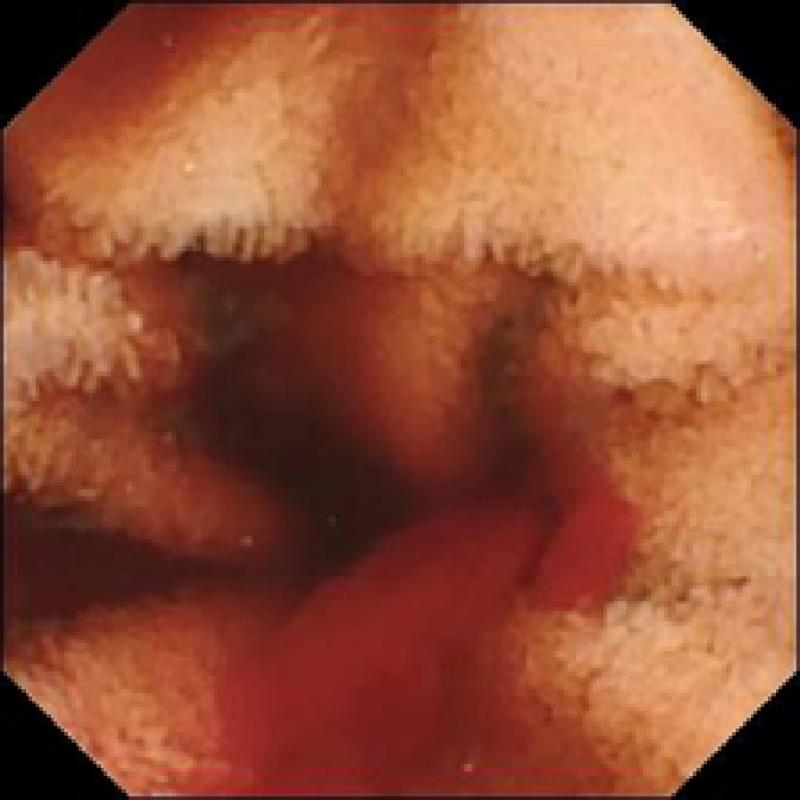bleeding: (218, 500, 632, 800)
